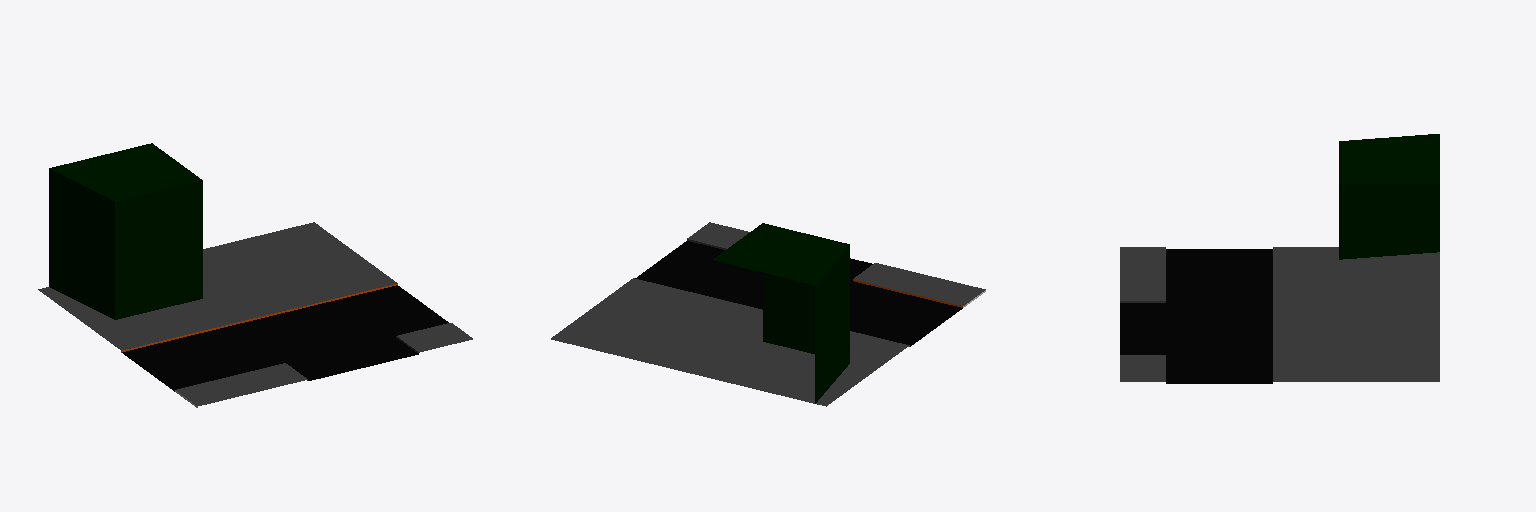
Rendered from 04_sept_r.obj.
The picture shows the model from 3 angles: view 1: azimuth 30°, elevation 25°; view 2: azimuth 150°, elevation 25°; view 3: azimuth 270°, elevation 25°; orthographic projection.
Parts seen in each view (by area): view 1: 04_sept_r_Grid.002; view 2: 04_sept_r_Grid.002; view 3: 04_sept_r_Grid.002.
Boxes of the visible parts, box(x1,y1,x2,y2) form: 04_sept_r_Grid.002: box(38, 143, 472, 407); 04_sept_r_Grid.002: box(551, 222, 985, 406); 04_sept_r_Grid.002: box(1120, 134, 1439, 383).
Bounding box in the file's own units: 15.98 × 6.65 × 16.